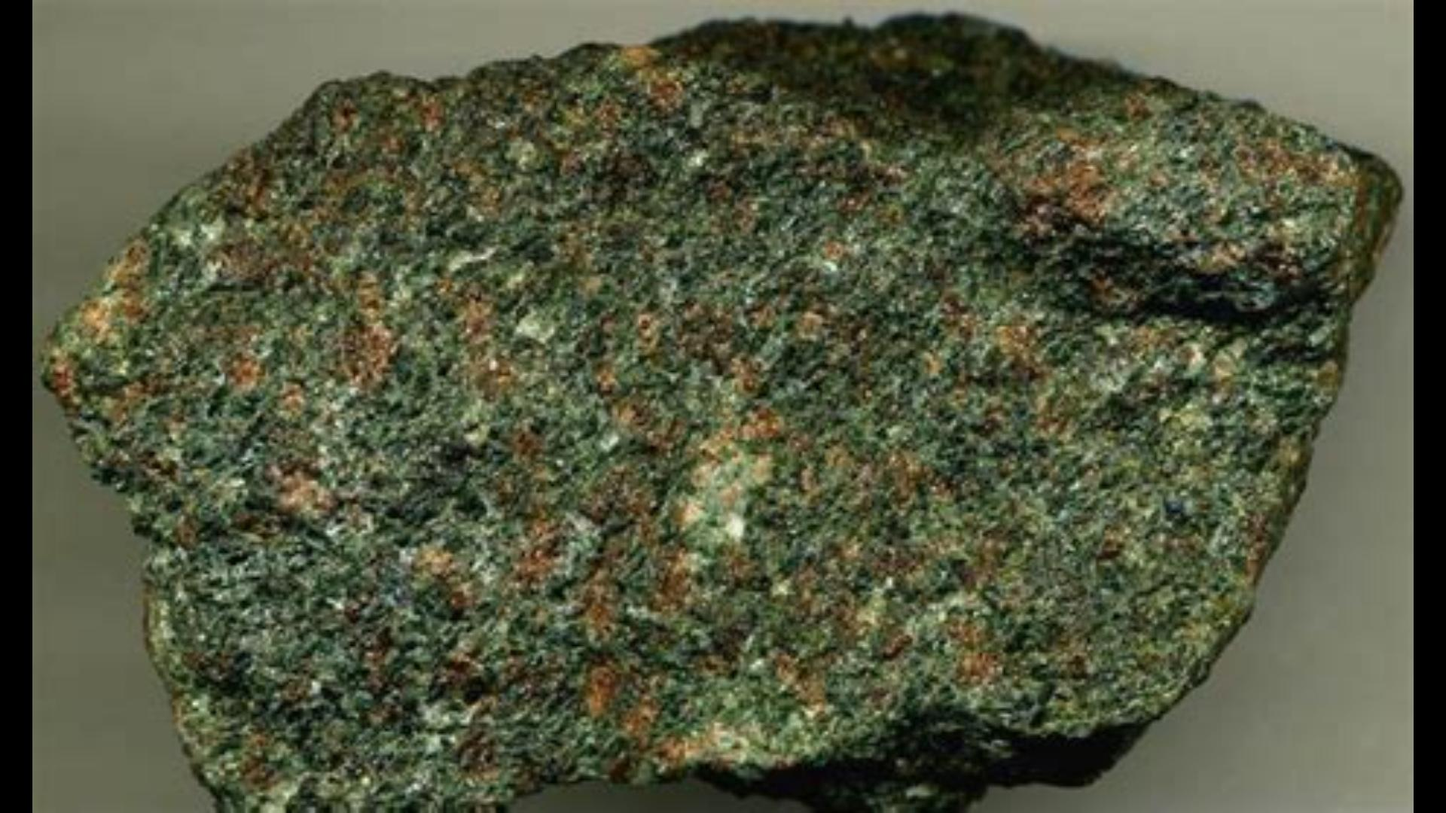rock: (44, 17, 1391, 804)
